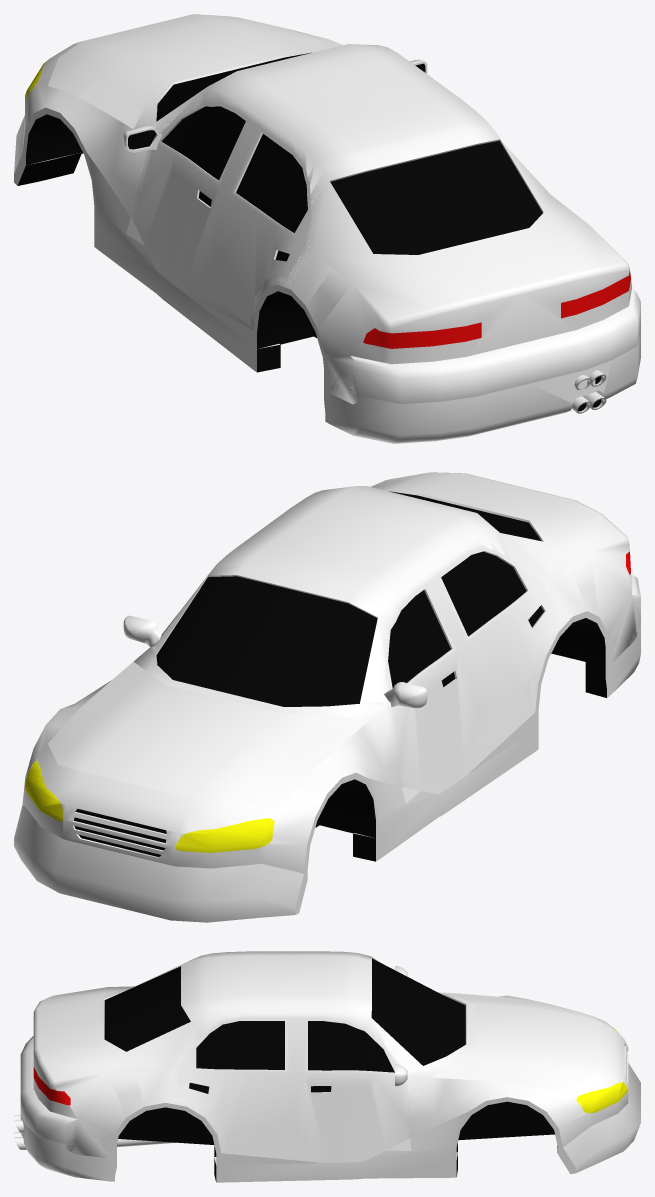
Rendered from TOYOTA CAMRY 1998 (2X-FACES).fbx.
3 renders of one model, top to bottom at view 1: azimuth 30°, elevation 25°; view 2: azimuth 150°, elevation 25°; view 3: azimuth 270°, elevation 25°, orthographic. The views are drawn at different scales.
Visible parts, largest first — view 1: BODY STOCK, BODY WIDEBOI, HOOD, FL DOOR, RL DOOR, TAIL LIGHTS GLASS, L MIRROR; view 2: BODY STOCK, HOOD, BODY WIDEBOI, RL DOOR, FL DOOR, HEAD LIGHTS GLASS, L MIRROR, R MIRROR; view 3: BODY STOCK, FR DOOR, RR DOOR, HOOD, BODY WIDEBOI, HEAD LIGHTS GLASS, TAIL LIGHTS GLASS.
Boxes of the visible parts, box(x1,y1,x2,y2) form: BODY STOCK: box(22, 28, 640, 404); BODY WIDEBOI: box(14, 115, 640, 443); HOOD: box(48, 14, 330, 128); FL DOOR: box(126, 103, 250, 286); RL DOOR: box(210, 127, 311, 323); TAIL LIGHTS GLASS: box(363, 271, 630, 348); L MIRROR: box(123, 126, 161, 152); BODY STOCK: box(22, 472, 640, 881); HOOD: box(48, 662, 370, 806); BODY WIDEBOI: box(14, 597, 640, 922); RL DOOR: box(436, 547, 559, 742); FL DOOR: box(382, 583, 476, 803); HEAD LIGHTS GLASS: box(25, 761, 274, 852); L MIRROR: box(384, 682, 427, 708); R MIRROR: box(123, 615, 161, 646); BODY STOCK: box(14, 951, 628, 1165); FR DOOR: box(303, 1018, 411, 1150); RR DOOR: box(177, 1018, 289, 1151); HOOD: box(432, 992, 600, 1091); BODY WIDEBOI: box(14, 1063, 640, 1182); HEAD LIGHTS GLASS: box(576, 1027, 627, 1113); TAIL LIGHTS GLASS: box(33, 1067, 70, 1105).
Size of the model in its own units: 812 by 543 by 1982.
